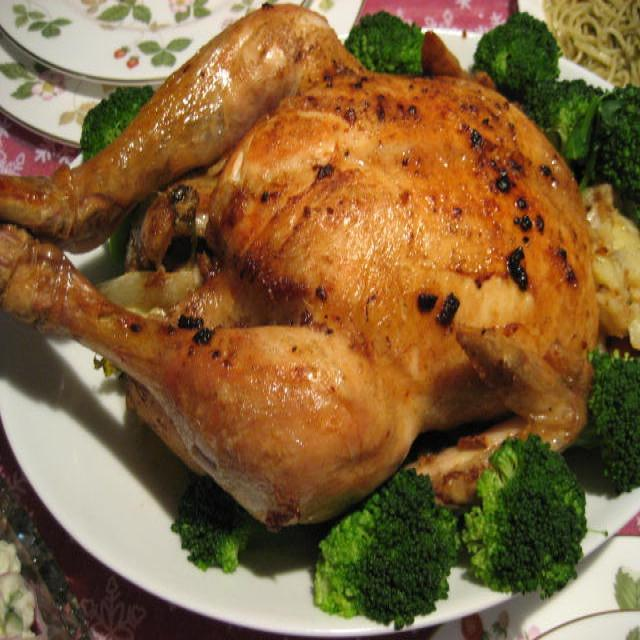Chicken: (0, 0, 597, 474)
